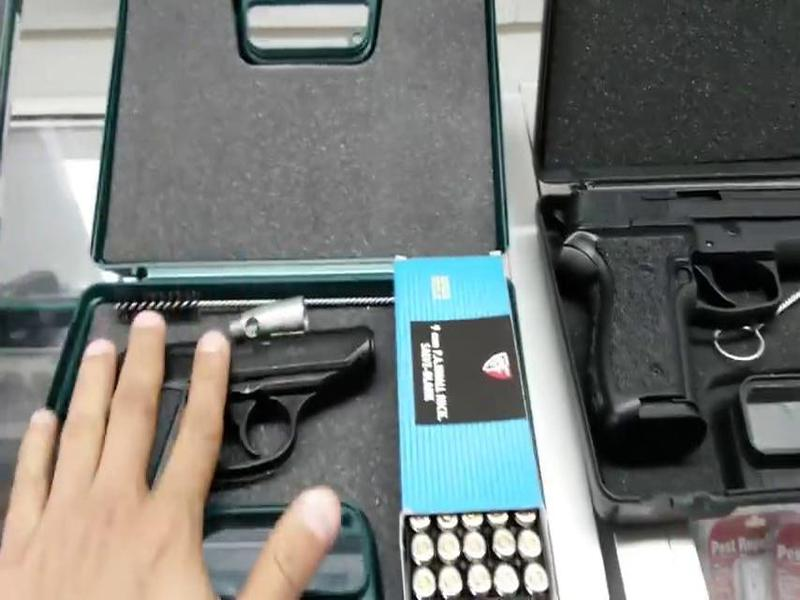Pistola: (111, 314, 397, 521)
